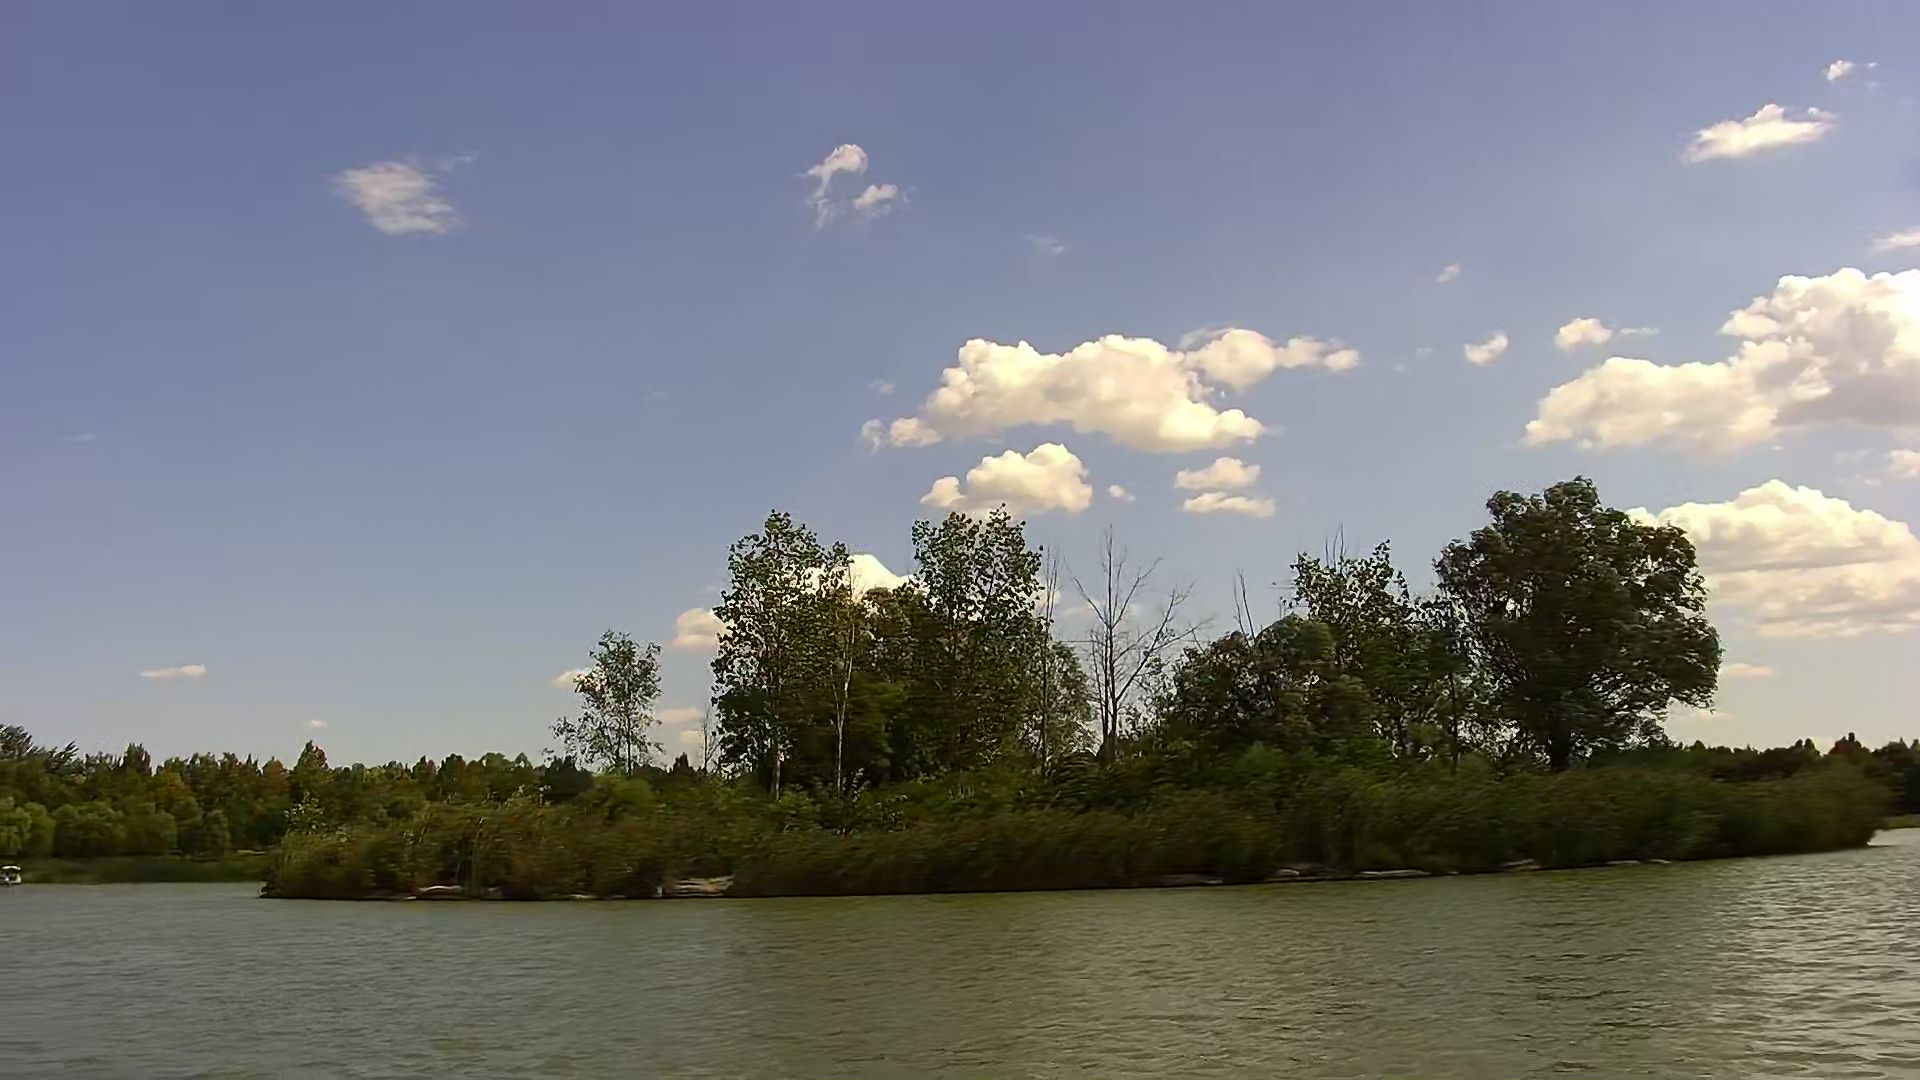rock: (663, 872, 733, 895), (407, 881, 465, 899)
